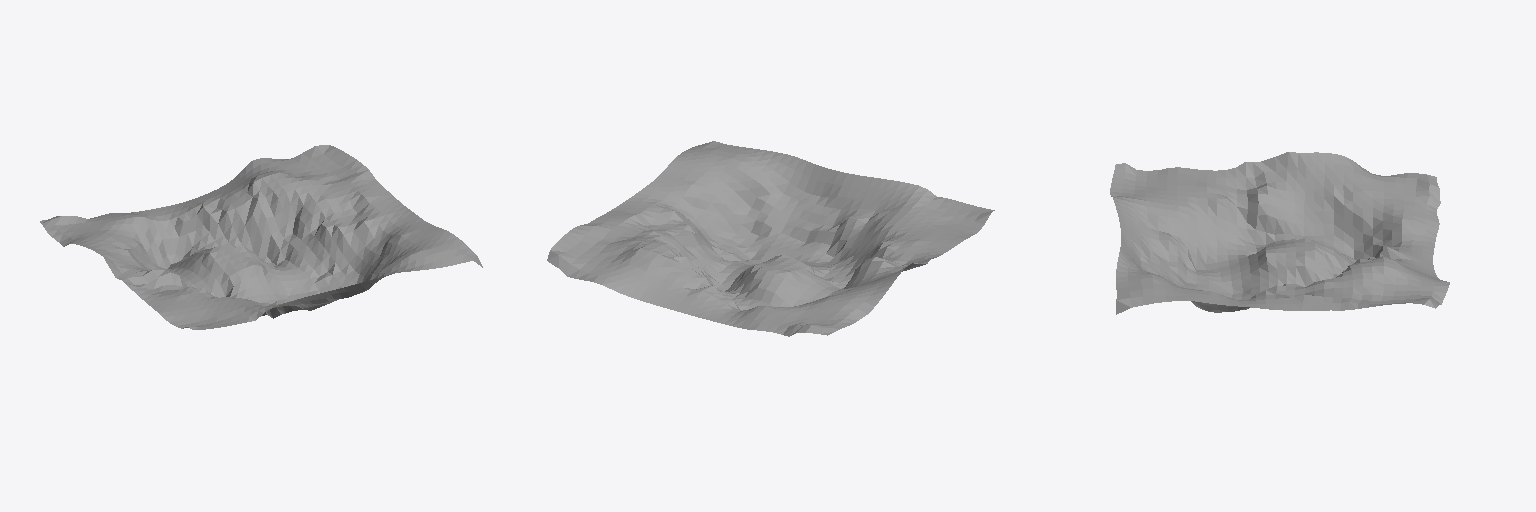
The model's file is terrain.obj.
3 views of the same model, side by side, from view 1: azimuth 30°, elevation 25°; view 2: azimuth 150°, elevation 25°; view 3: azimuth 270°, elevation 25° (orthographic).
Visible parts, largest first — view 1: Plane; view 2: Plane; view 3: Plane.
Boxes of the visible parts, x1=… form: Plane: x1=40, y1=145, x2=482, y2=329; Plane: x1=547, y1=141, x2=994, y2=336; Plane: x1=1110, y1=152, x2=1449, y2=314.
Bounding box in the file's own units: 1.9 × 0.3836 × 1.84.